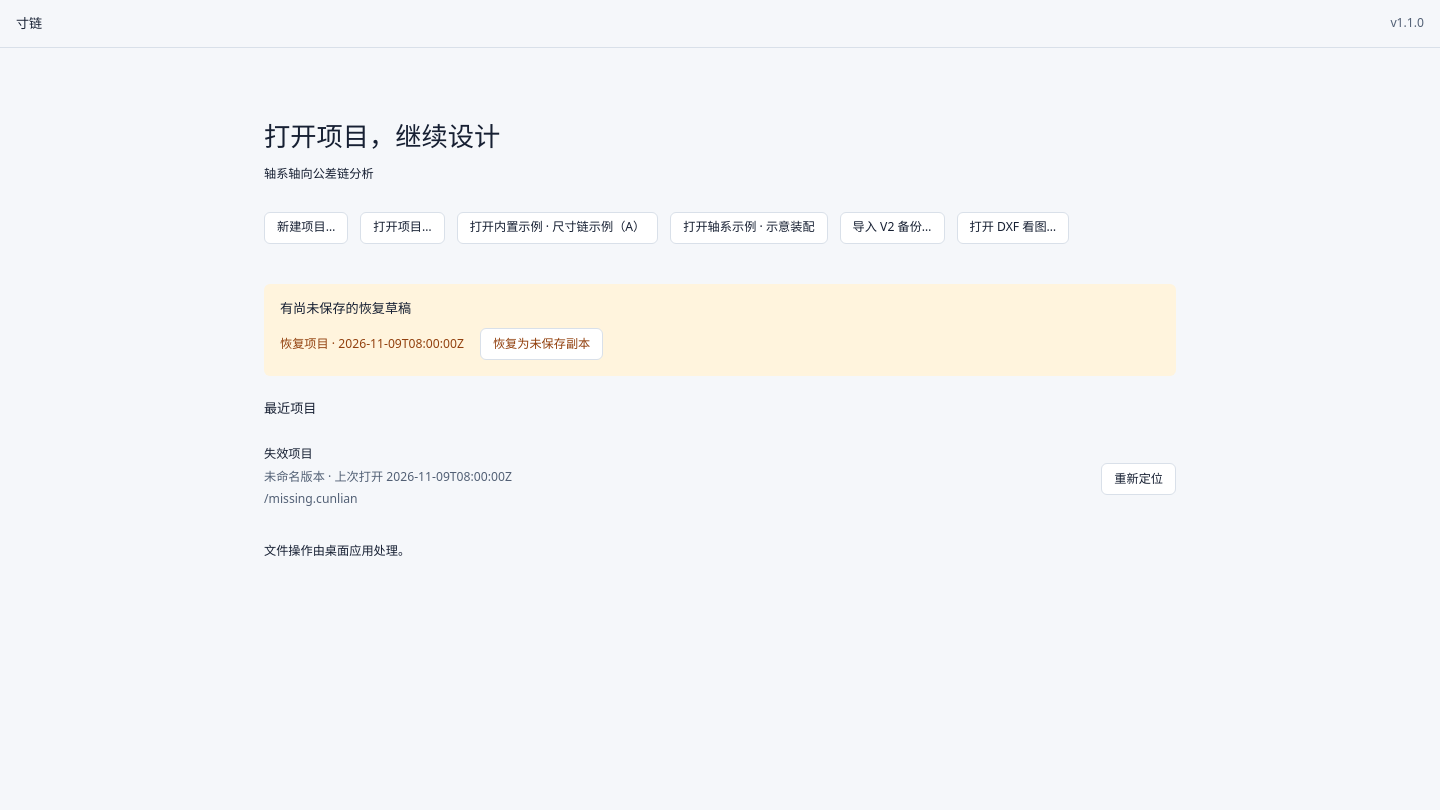
UI-ID guard: 主工作台与图纸面板真实输出不泄漏身份
Click the button "打开内置示例 · 尺寸链示例（A）".
click(558, 228)  # box [457,212,658,244]
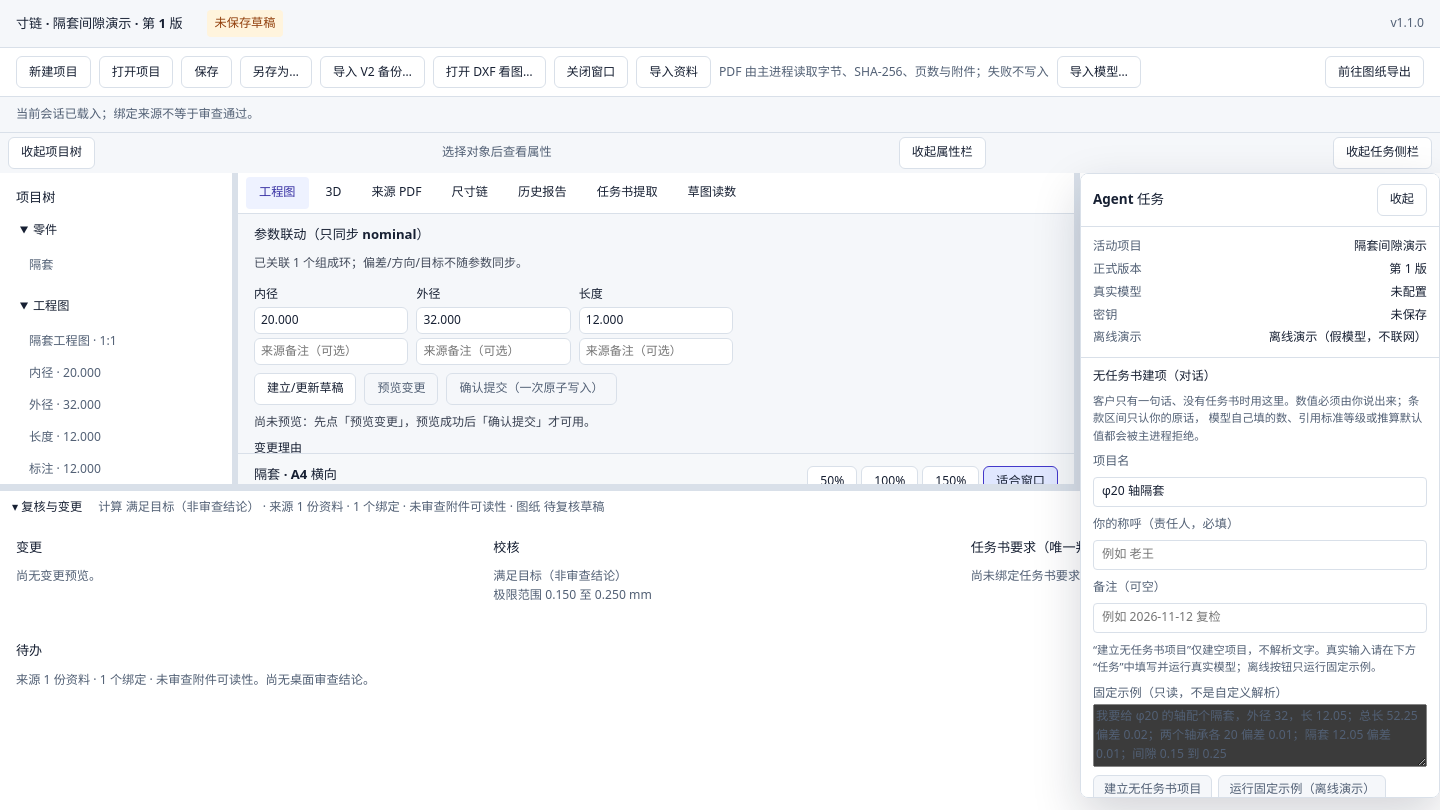
Expected: the heading "寸链 · 隔套间隙演示 · 第 1 版" is shown, [16,15,183,32]
